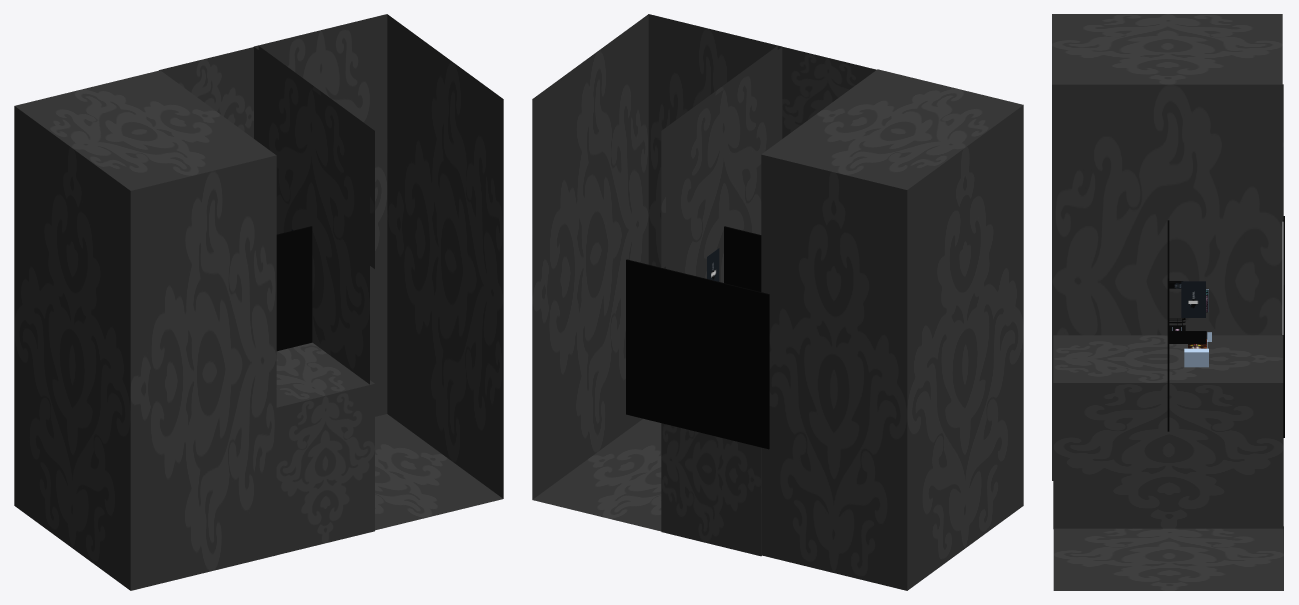
The model's file is insidebar.dae.
3 renders of one model, left to right at view 1: azimuth 30°, elevation 25°; view 2: azimuth 150°, elevation 25°; view 3: azimuth 270°, elevation 25°, orthographic.
Visible parts, largest first — view 1: wall01, wall03, wall02, wall04, floor; view 2: wall01, wall03, ceiling, wall02, wall04, floor; view 3: wall01, wall02, wall03, browser, floor, tvBox, door, ceiling.
Boxes of the visible parts, x1,y1,x2,y2 form: wall01: [14, 70, 276, 590]; wall03: [254, 14, 503, 530]; wall02: [276, 342, 374, 554]; wall04: [159, 46, 374, 268]; floor: [276, 226, 312, 351]; wall01: [761, 69, 1023, 590]; wall03: [532, 14, 782, 532]; ceiling: [626, 259, 769, 449]; wall02: [661, 423, 761, 556]; wall04: [661, 46, 876, 267]; floor: [724, 226, 761, 291]; wall01: [1052, 14, 1282, 480]; wall02: [1053, 335, 1283, 528]; wall03: [1053, 526, 1283, 590]; browser: [1181, 281, 1205, 317]; floor: [1167, 220, 1169, 431]; tvBox: [1184, 348, 1208, 367]; door: [1169, 331, 1206, 343]; ceiling: [1283, 216, 1284, 437].
Bounding box in the file's own units: 61.23 × 33.35 × 62.75.
Materials: 31 (14 with a texture image).
